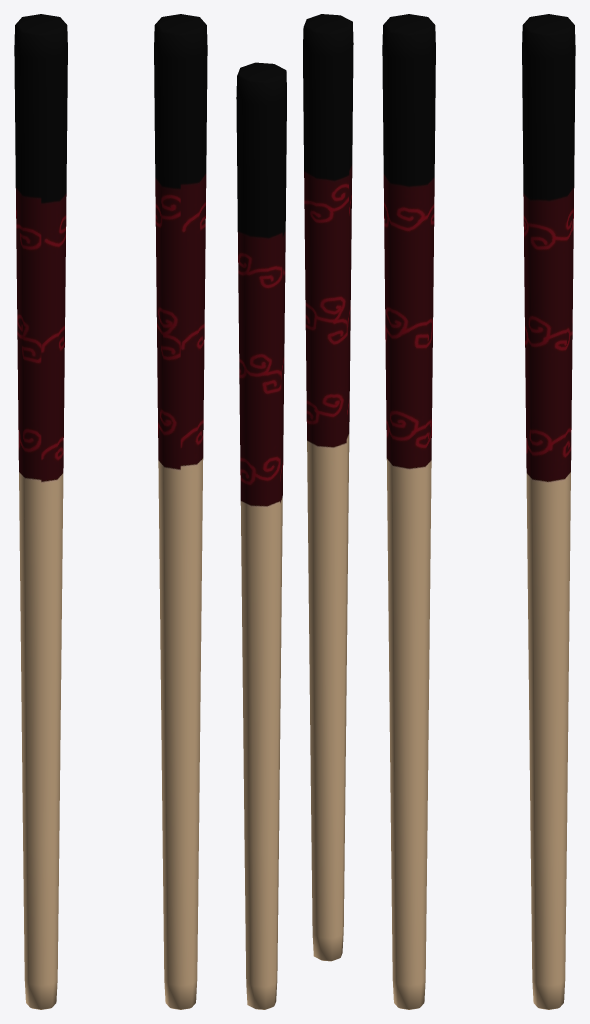
Rendered from stapici fbx file negativni.fbx.
3 views of the same model, side by side, from view 1: azimuth 90°, elevation 25°; view 2: azimuth 150°, elevation 25°; view 3: azimuth 270°, elevation 25° (orthographic). The views are drawn at different scales.
Visible parts, largest first — view 1: stapici; view 2: stapici; view 3: stapici.
Boxes of the visible parts, x1,y1,x2,y2 form: stapici: (14, 14, 207, 1009); stapici: (236, 14, 353, 1009); stapici: (382, 14, 575, 1009).
Bounding box in the file's own units: 3.69 × 74.58 × 13.31.
1 material, 1 textured.
